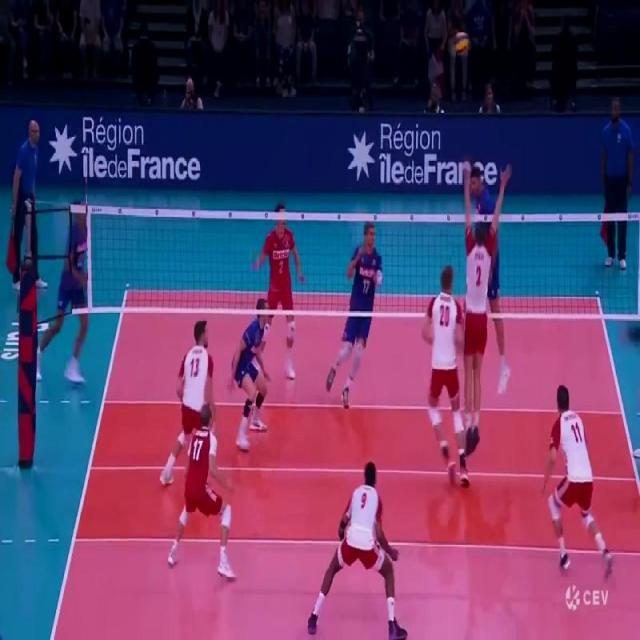volleyball: (455, 32, 468, 55)
